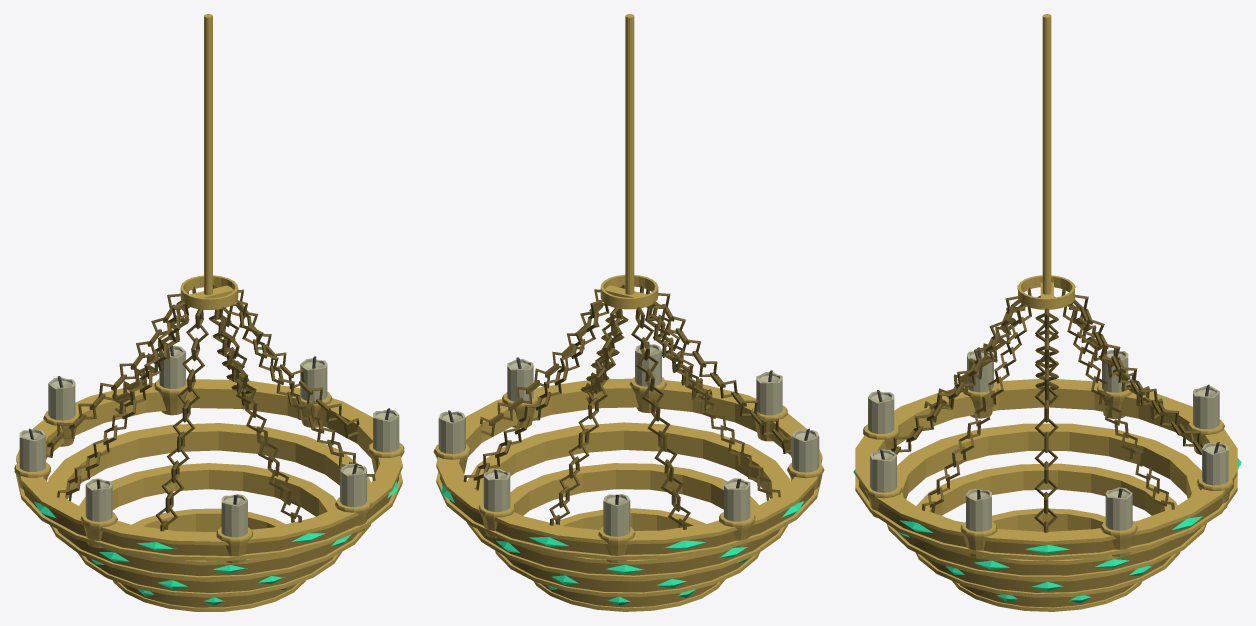
File: Candelabro.fbx
3 renders of one model, left to right at view 1: azimuth 30°, elevation 25°; view 2: azimuth 150°, elevation 25°; view 3: azimuth 270°, elevation 25°, orthographic.
Parts seen in each view (by area): view 1: Candelabro; view 2: Candelabro; view 3: Candelabro.
Part boxes in pixels (x1,y1,x2,y2): Candelabro: (14,14,404,611); Candelabro: (433,14,824,611); Candelabro: (853,14,1241,611).
Bounding box in the file's own units: 253 × 395 × 251.
